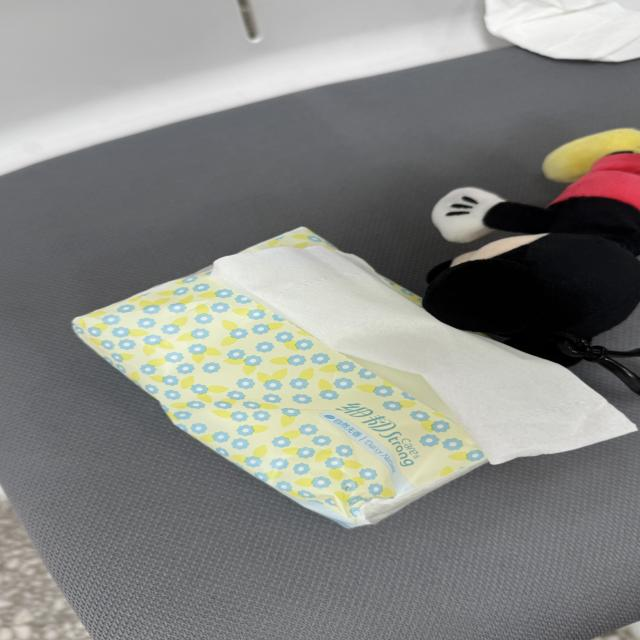mickey: (424, 129, 639, 365)
tissue: (70, 232, 635, 528), (486, 0, 639, 61)
